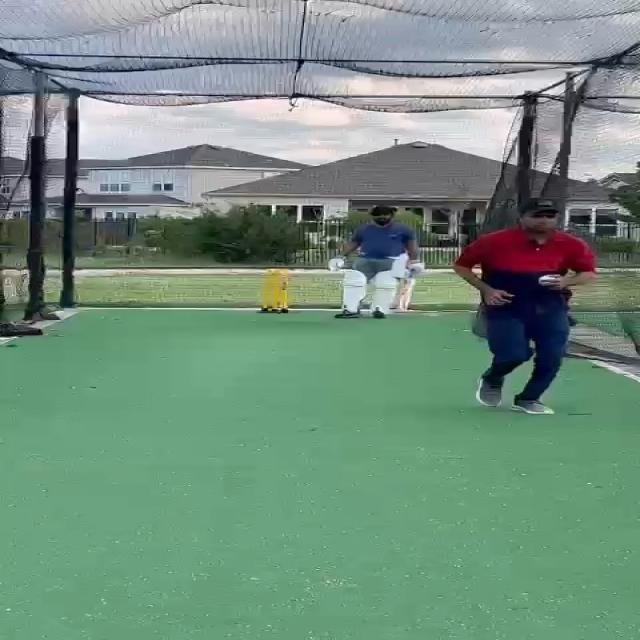batsman: (325, 202, 426, 320)
